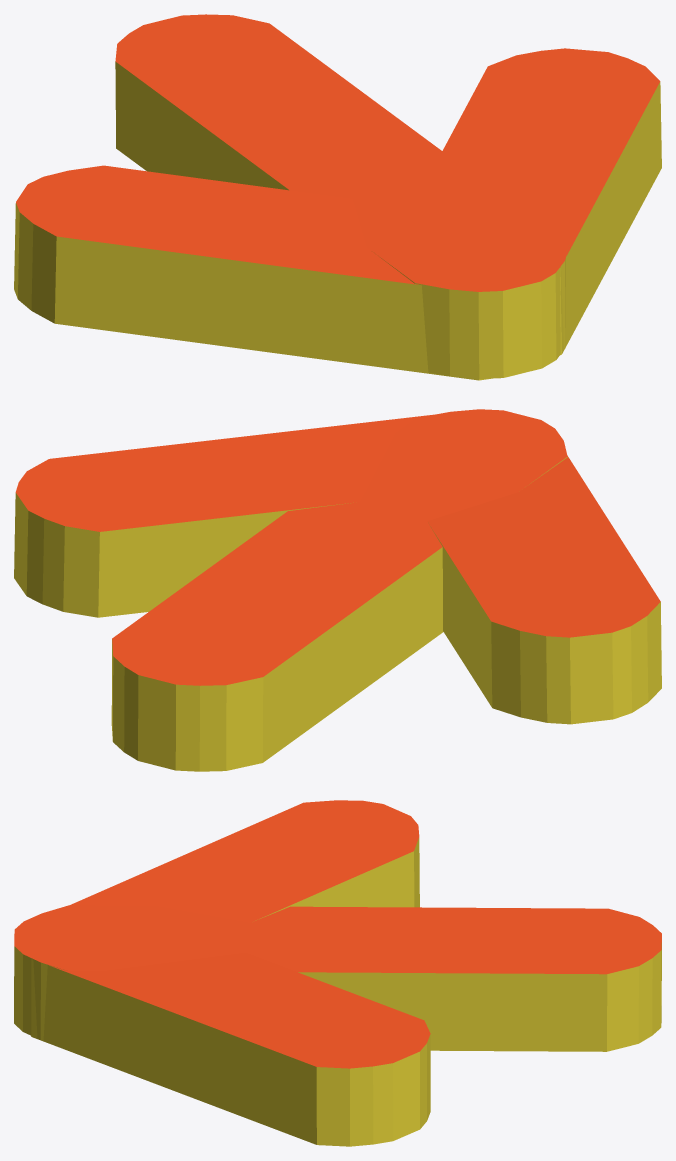
Rendered from ArrowOrange.fbx.
3 renders of one model, top to bottom at view 1: azimuth 30°, elevation 25°; view 2: azimuth 150°, elevation 25°; view 3: azimuth 270°, elevation 25°, orthographic. The views are drawn at different scales.
Parts seen in each view (by area): view 1: group_477237988; view 2: group_477237988; view 3: group_477237988.
Part boxes in pixels (x1,y1,x2,y2): group_477237988: (14, 14, 661, 380); group_477237988: (14, 409, 661, 771); group_477237988: (14, 800, 661, 1146).
Bounding box in the file's own units: 250 × 37.16 × 254.
